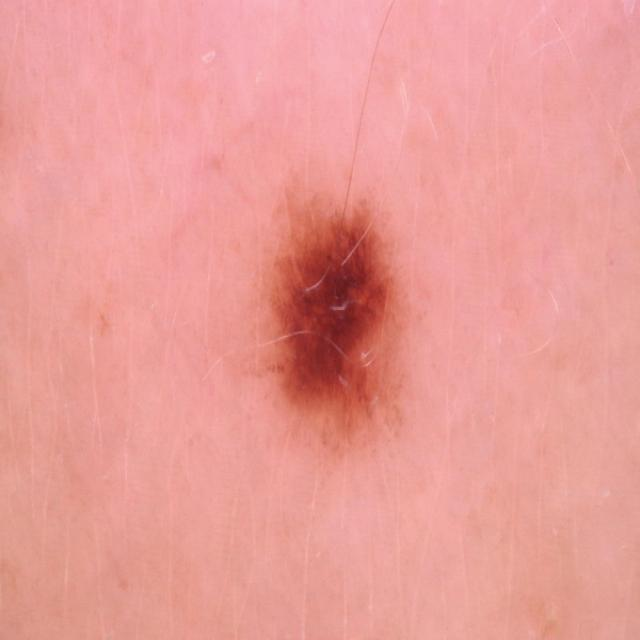NV: (256, 188, 415, 459)
